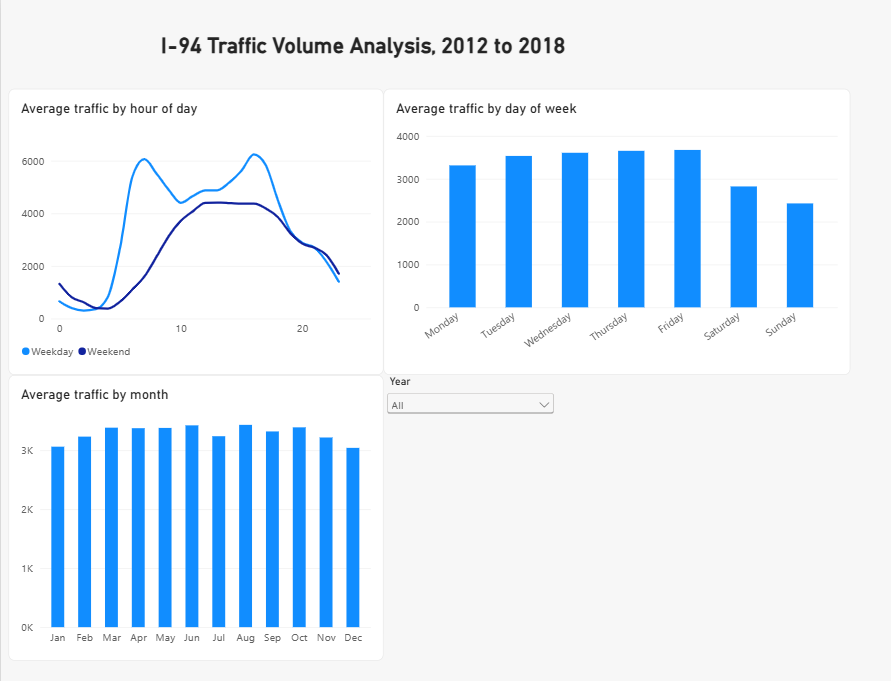

What the dashboard file says about the page in this screenshot:
{"tool":"powerbi","page":{"name":"Page 1","canvas":[1920,1080],"ordinal":0},"visuals":[{"type":"lineChart","title":"Average traffic by hour of day","fields":{"Category":["traffic_dashboard_data.Hour"],"Series":["traffic_dashboard_data.Day_Type"],"Y":["Avg(traffic_dashboard_data.Traffic_Volume)"]},"box":[10,118.8,500,381.2],"z":0},{"type":"clusteredColumnChart","title":"Average traffic by day of week","fields":{"Category":["traffic_dashboard_data.Day_Of_Week"],"Y":["Avg(traffic_dashboard_data.Traffic_Volume)"]},"box":[510,118.8,622.5,381.2],"z":1},{"type":"clusteredColumnChart","title":"Average traffic by month","fields":{"Category":["traffic_dashboard_data.Month"],"Y":["Avg(traffic_dashboard_data.Traffic_Volume)"]},"box":[10,500,500,381],"z":2},{"type":"slicer","fields":{"Values":["traffic_dashboard_data.Year"]},"box":[510,500,232.5,76.2],"z":3},{"type":"textbox","box":[212.5,43.8,568.8,75],"z":4}]}

Visuals, with their boxes on the page's 1920x1080 design canvas (x1, y1, x2, y2). These are canvas units, not pixel positions in the 891x681 screenshot, which may show the page scaled, cropped or inside an application window:
"Average traffic by hour of day" lineChart: {"left": 10, "top": 119, "right": 510, "bottom": 500}
"Average traffic by day of week" clusteredColumnChart: {"left": 510, "top": 119, "right": 1132, "bottom": 500}
"Average traffic by month" clusteredColumnChart: {"left": 10, "top": 500, "right": 510, "bottom": 881}
slicer - traffic_dashboard_data.Year: {"left": 510, "top": 500, "right": 742, "bottom": 576}
textbox: {"left": 212, "top": 44, "right": 781, "bottom": 119}
